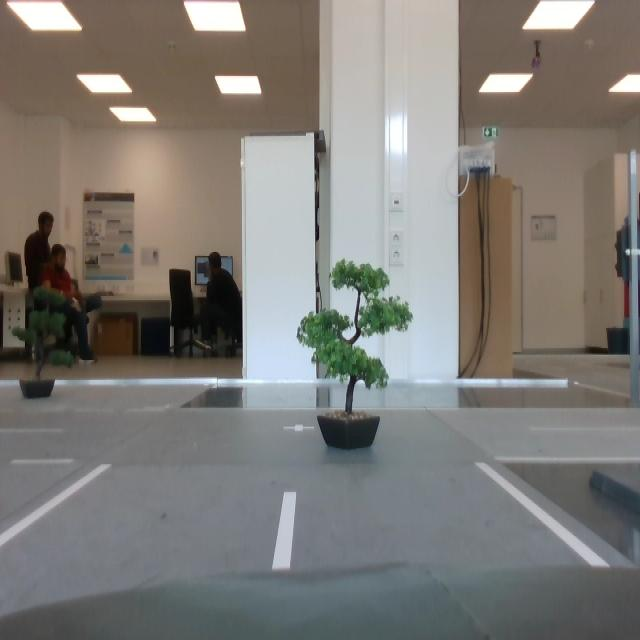potted plant: (295, 258, 414, 453), (12, 286, 75, 398)
